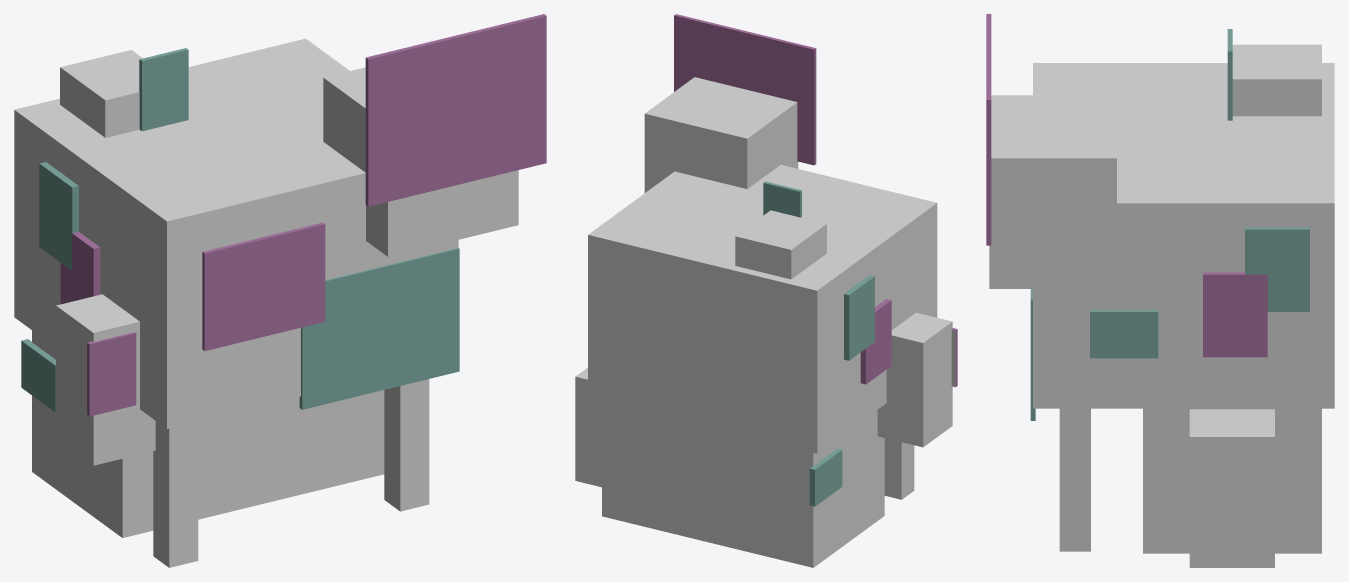
The model's file is building2.fbx.
The picture shows the model from 3 angles, left to right: view 1: azimuth 30°, elevation 25°; view 2: azimuth 150°, elevation 25°; view 3: azimuth 270°, elevation 25°; orthographic projection. The views are drawn at different scales.
Visible parts, largest first — view 1: polySurface4; view 2: polySurface4; view 3: polySurface4.
Boxes of the visible parts, x1,y1,x2,y2 form: polySurface4: (14, 14, 546, 567); polySurface4: (575, 14, 957, 567); polySurface4: (986, 14, 1334, 567).
Size of the model in its own units: 9.09 by 10.57 by 6.81.
